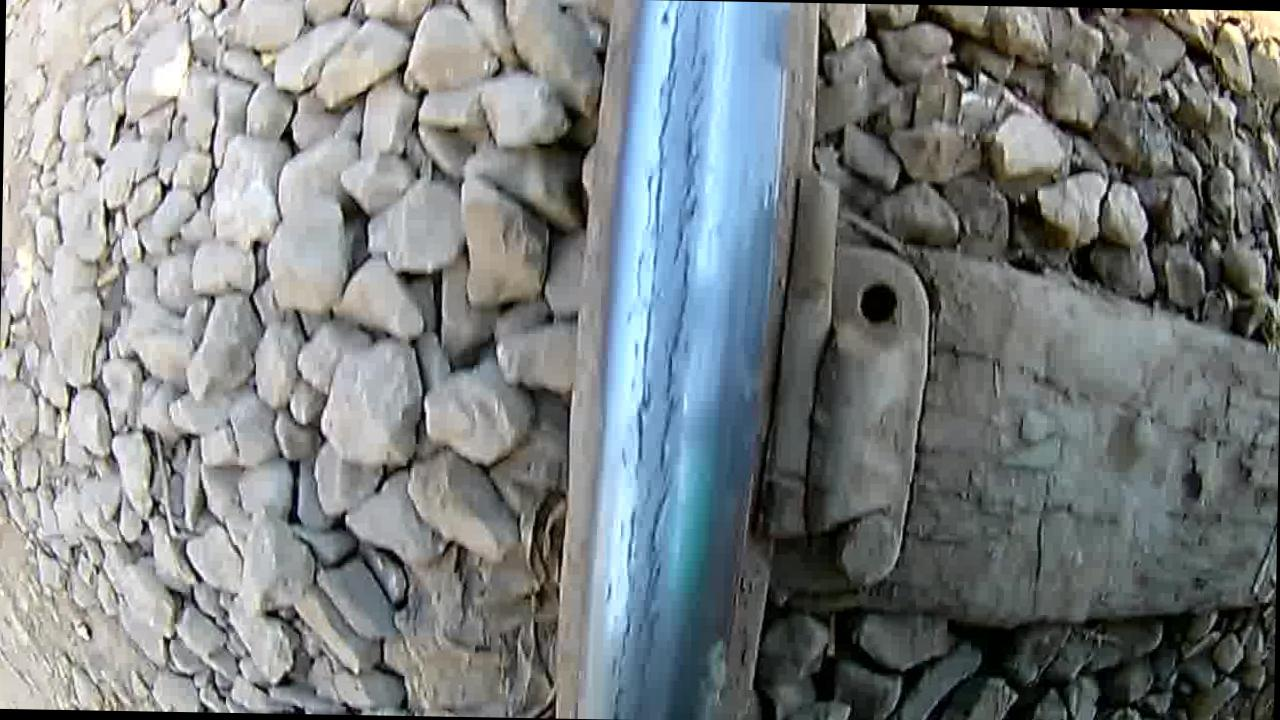normal_track: (593, 2, 727, 720)
